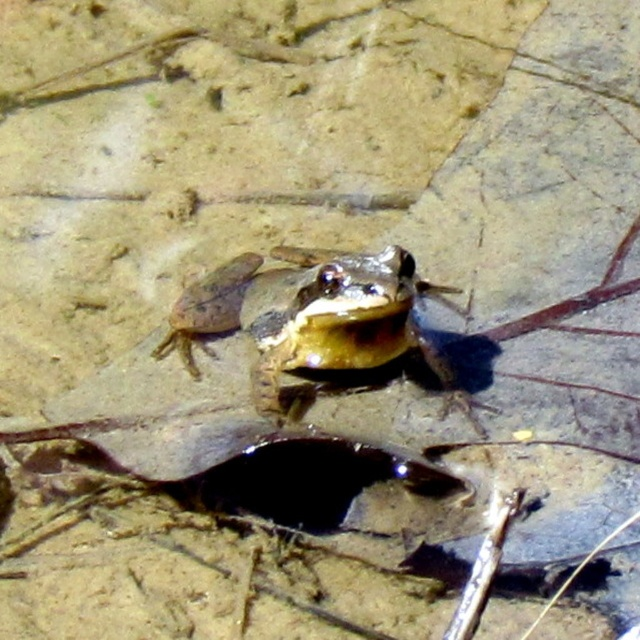Frog: (148, 244, 501, 438)
